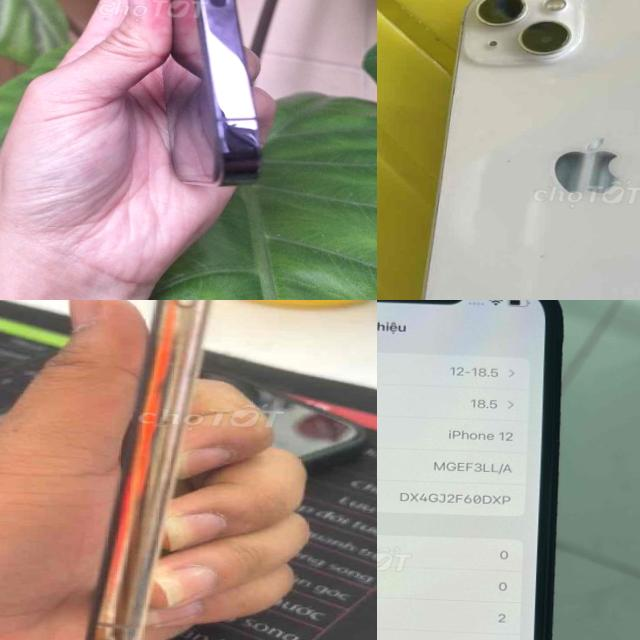gen_12_13: (397, 0, 640, 300), (377, 300, 574, 640)
gen_14: (107, 0, 287, 198)
gen_x_xs: (85, 300, 216, 640)
